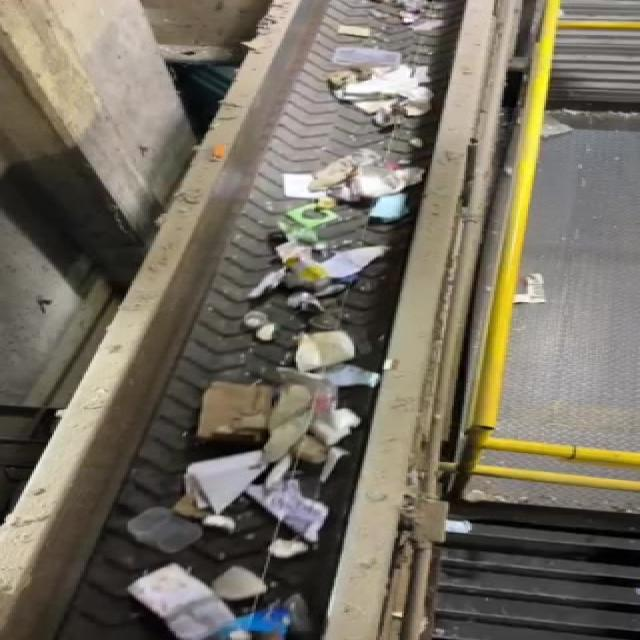paper: (172, 450, 312, 520), (128, 565, 242, 640), (192, 377, 276, 461)
pp: (125, 508, 208, 556)
